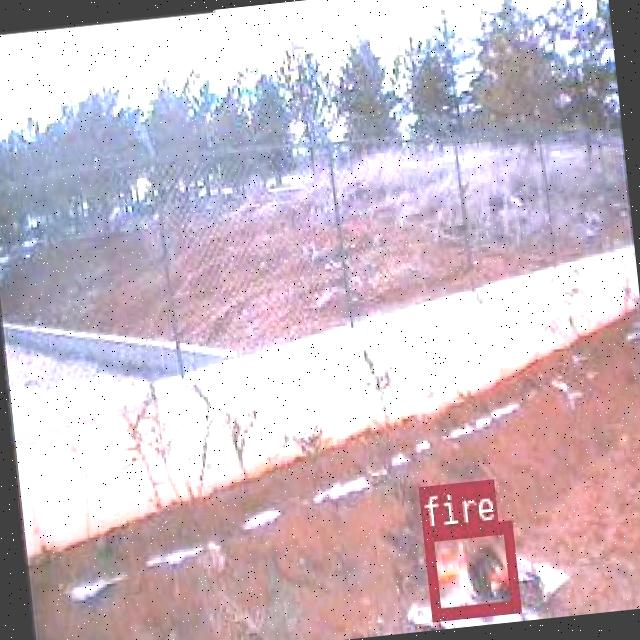fire: (422, 520, 518, 618)
